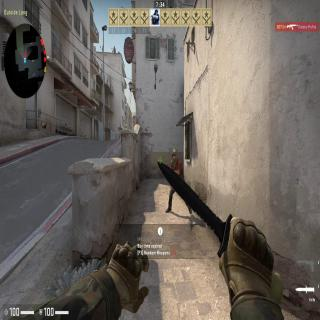T-Body: (165, 145, 192, 214)
T-Head: (172, 148, 177, 158)
